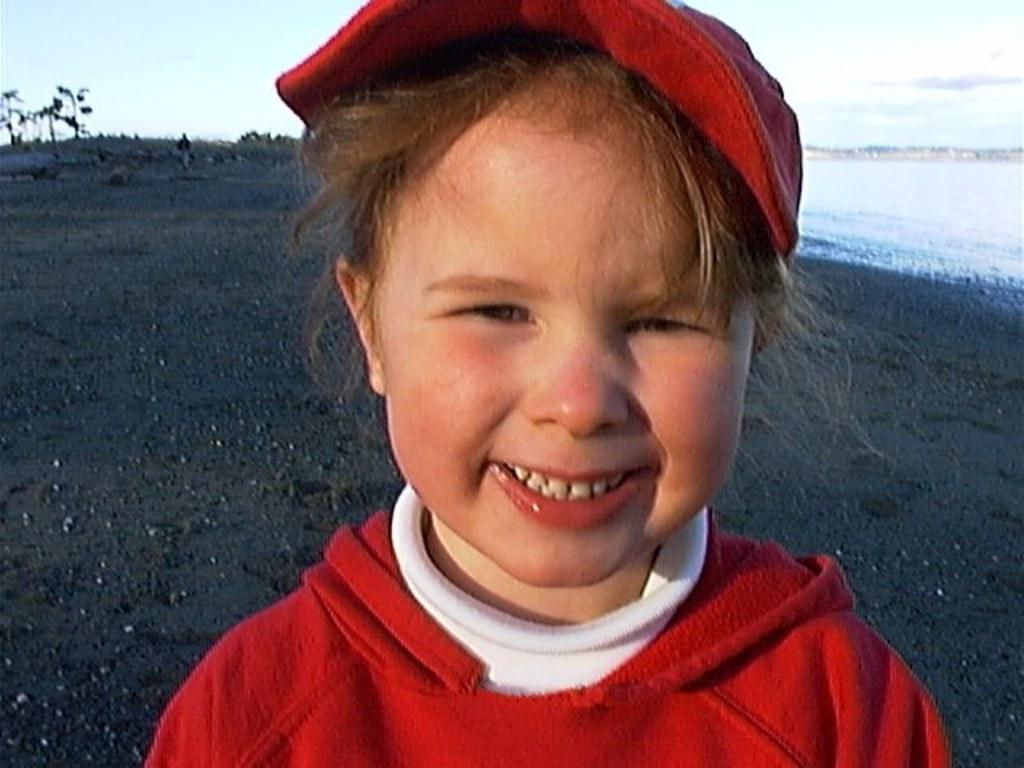Hat: (273, 0, 806, 273)
